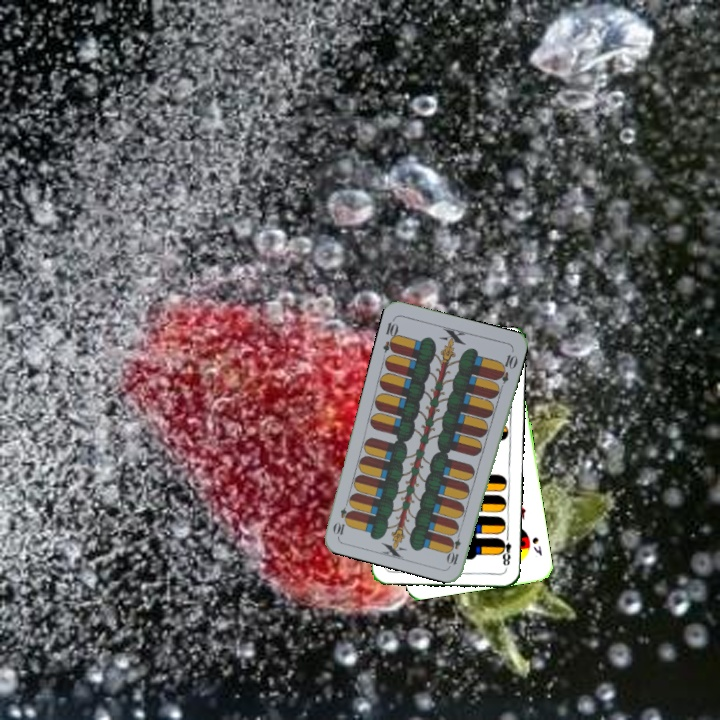E10: (379, 314, 401, 355), (445, 527, 464, 567)
E8: (496, 531, 513, 568)
SK: (528, 533, 545, 558)
